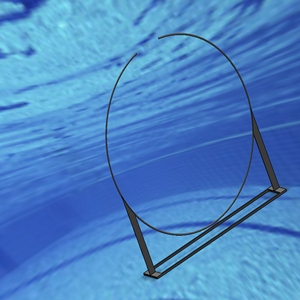circle: (104, 30, 289, 279)
